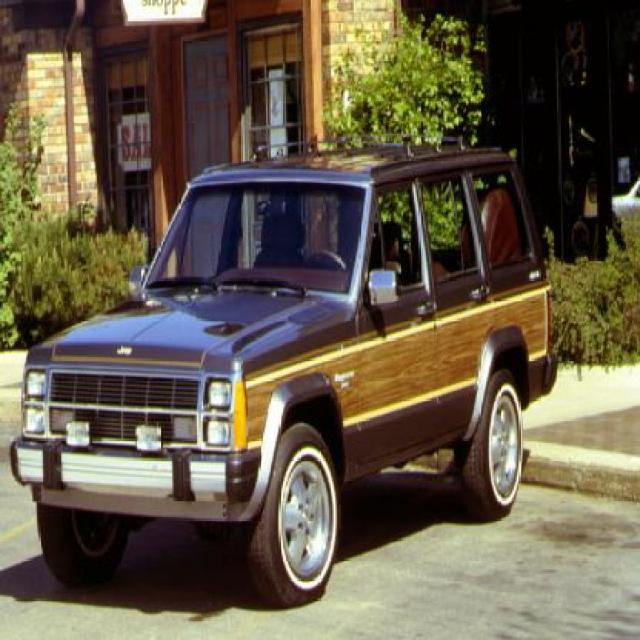Jeep: (13, 129, 564, 600)
